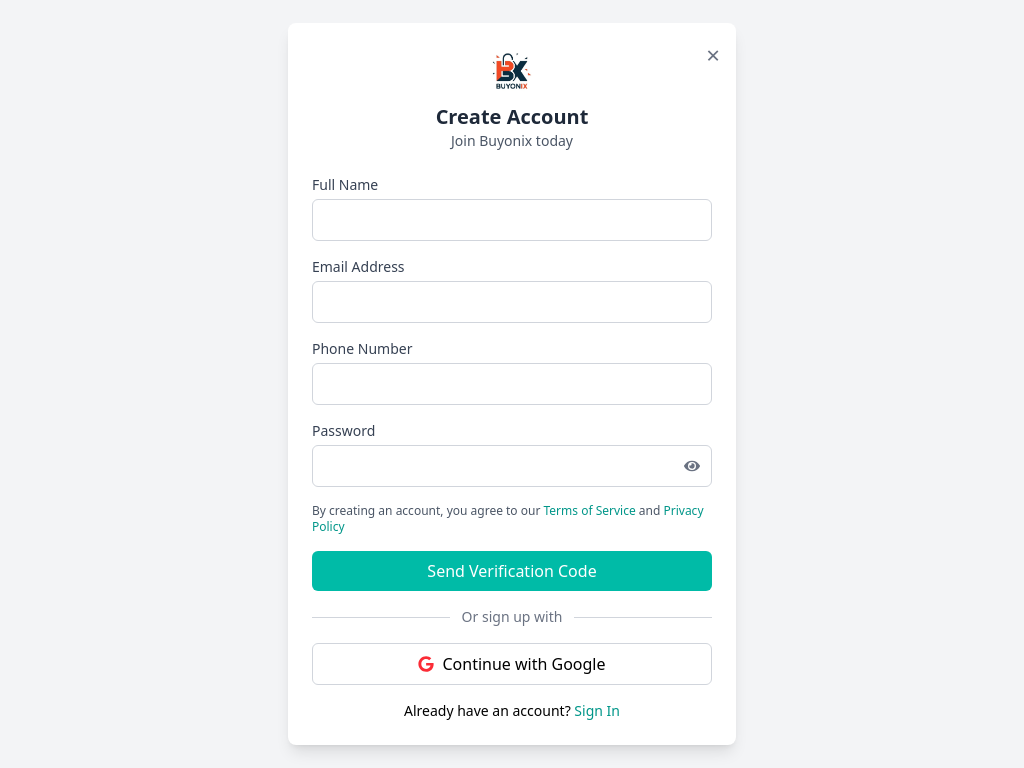
Test: SignUp Unit Tests › should show "Sending OTP..." while submitting
Type "John" into the field labelled "Full Name".
click(512, 220); type("John")  # box 312,199 -> 712,241
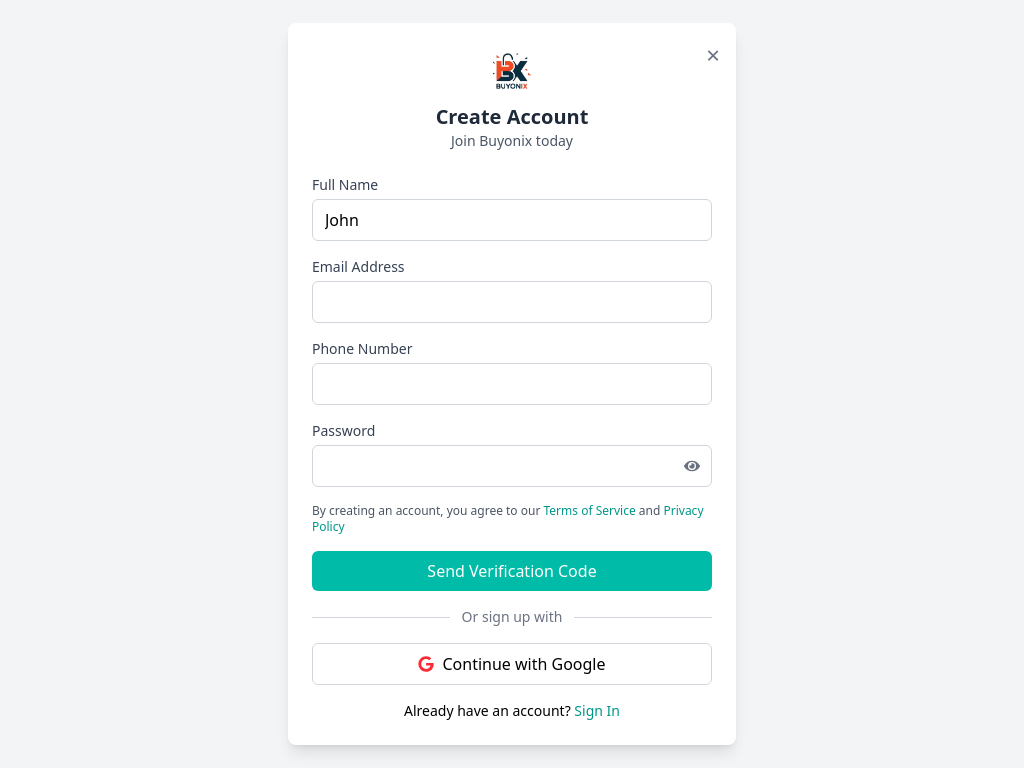
Type "j@t.com" into the field labelled "Email Address".
click(512, 302); type("j@t.com")  # box 312,281 -> 712,323
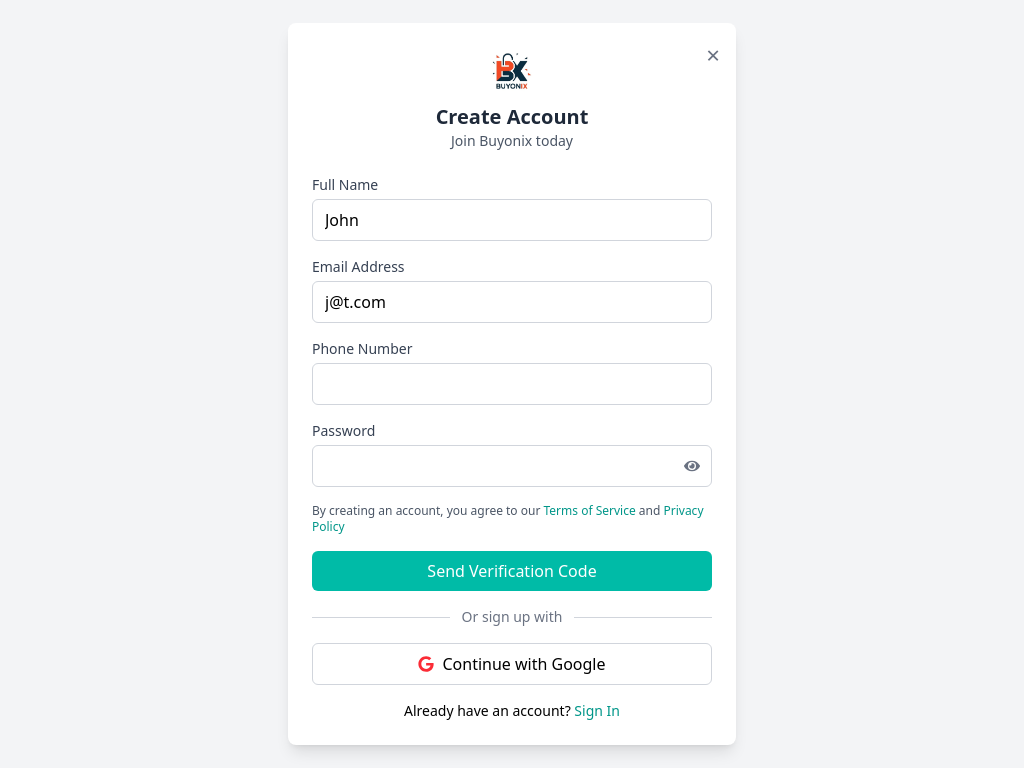
Type "123" into the field labelled "Phone Number".
click(512, 384); type("123")  # box 312,363 -> 712,405
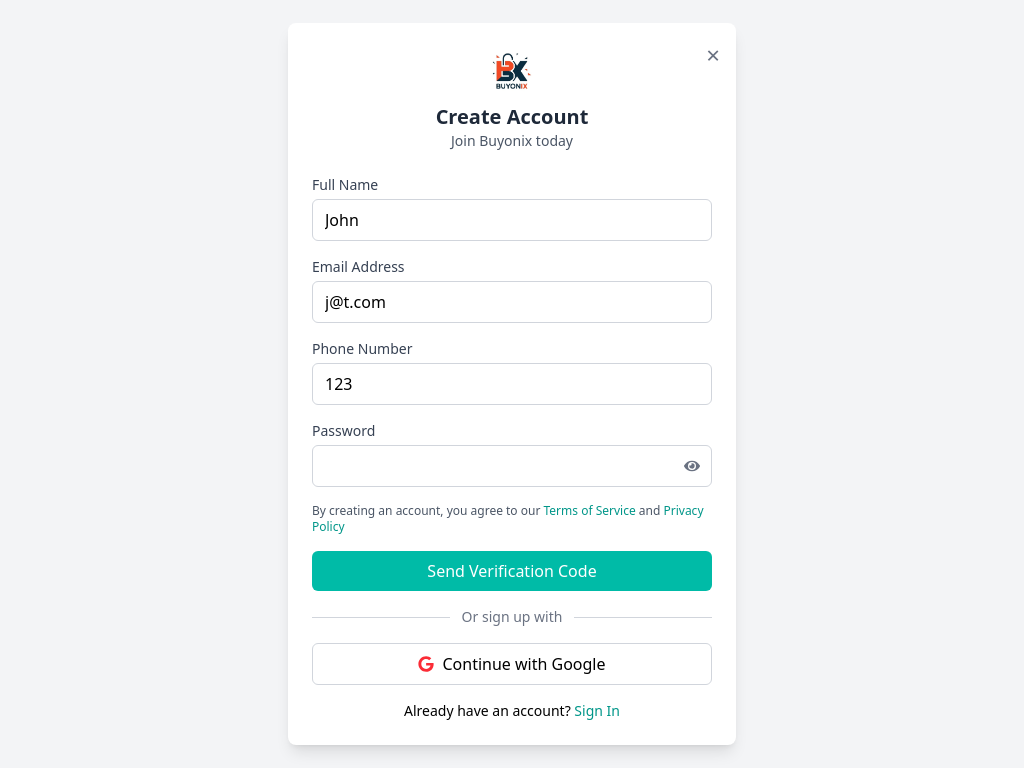
Type "pass" into the password field labelled "Password".
click(512, 466); type("pass")  # box 312,445 -> 712,487
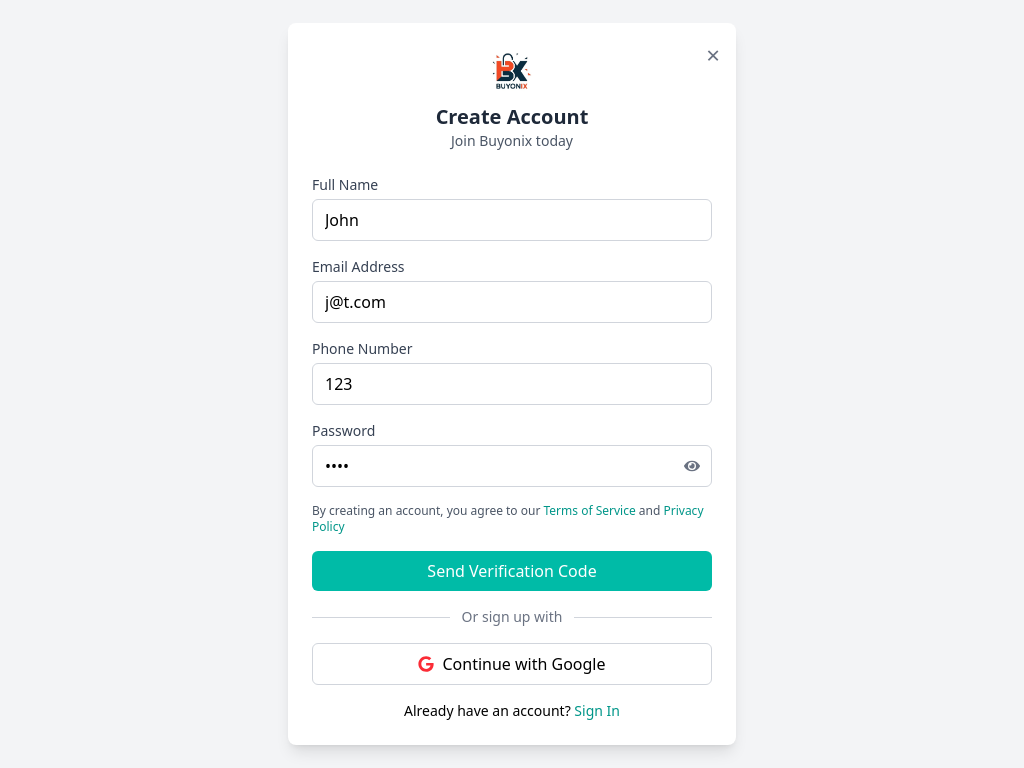
Click the button "Send Verification Code".
click(512, 571)  # box 312,551 -> 712,591
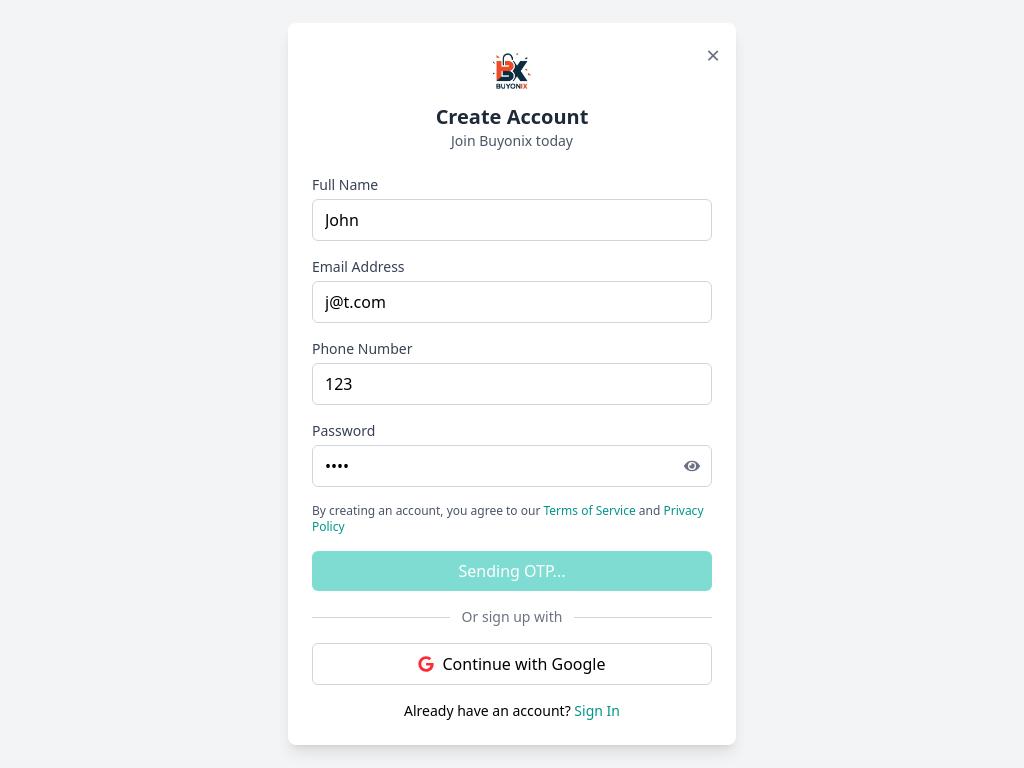
Result: the button "Sending OTP..." is shown at 312,551 -> 712,591
